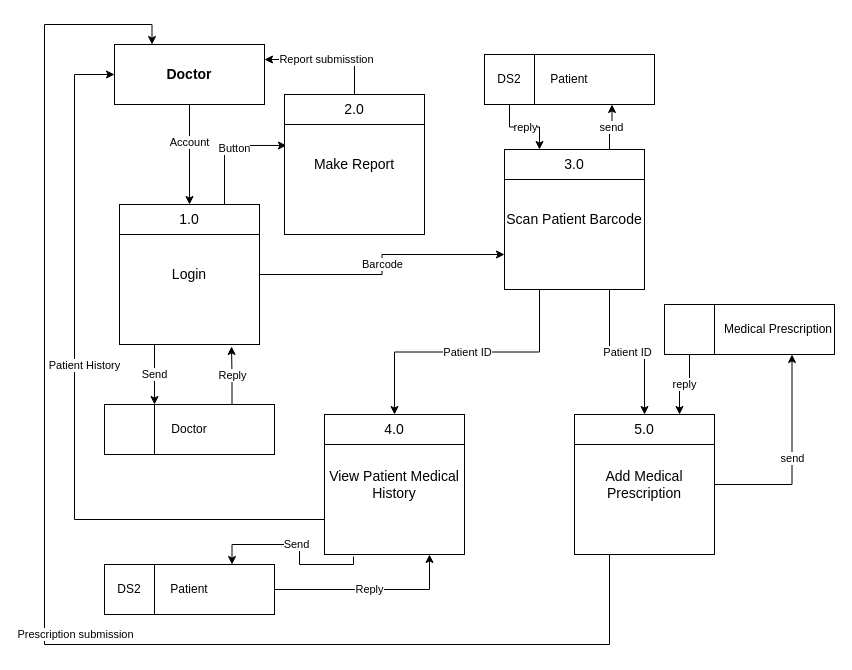
The diagram is 852 pixels wide and 670 high, and some of its shapes have lost their labels. The shapes that lost their labels are listed below. From the top down, each one's centre as x and y in pixels, then its label:
At point 689,329: "DS3".
At point 129,429: "DS1".
